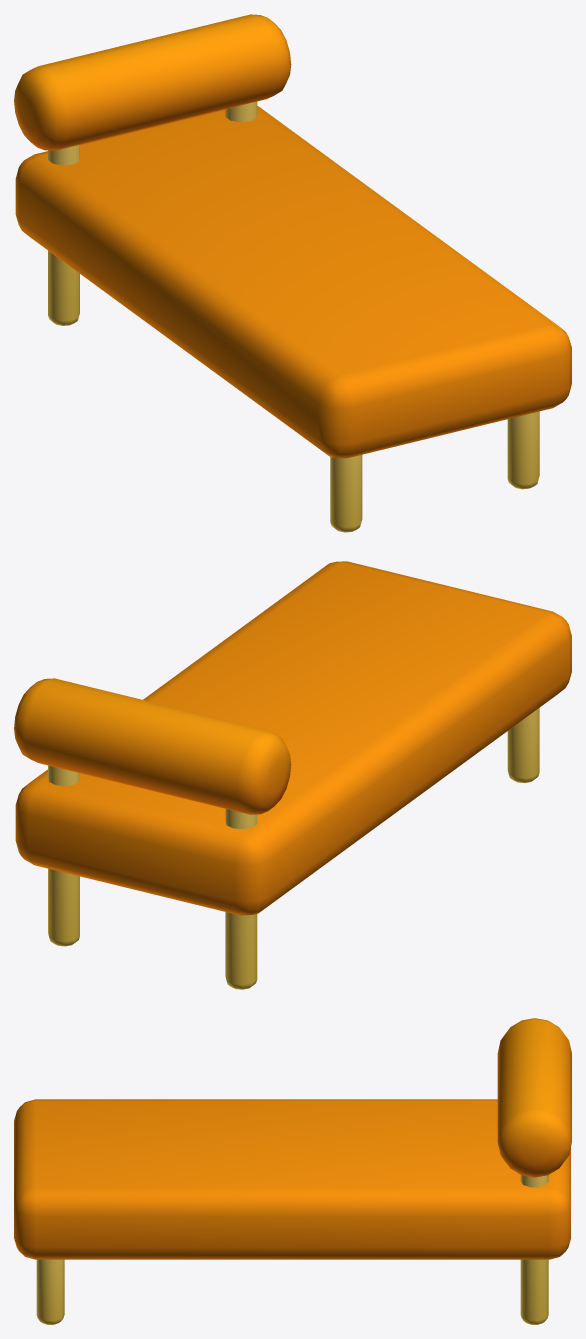
File: Couch_02.glb
3 views of the same model, one above another, from view 1: azimuth 30°, elevation 25°; view 2: azimuth 150°, elevation 25°; view 3: azimuth 270°, elevation 25° (orthographic). The views are drawn at different scales.
Visible parts, largest first — view 1: Couch_02; view 2: Couch_02; view 3: Couch_02.
Boxes of the visible parts, x1,y1,x2,y2 form: Couch_02: (14, 14, 571, 532); Couch_02: (14, 561, 571, 989); Couch_02: (14, 1018, 571, 1324).
Size of the model in its own units: 0.808 by 0.7861 by 1.8.
Materials: 1 (1 with a texture image).
